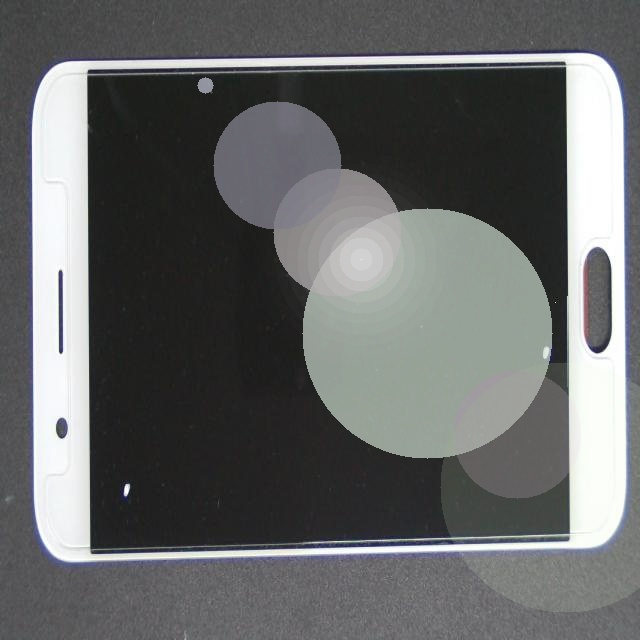stain: (288, 112, 640, 481), (55, 262, 166, 640)
